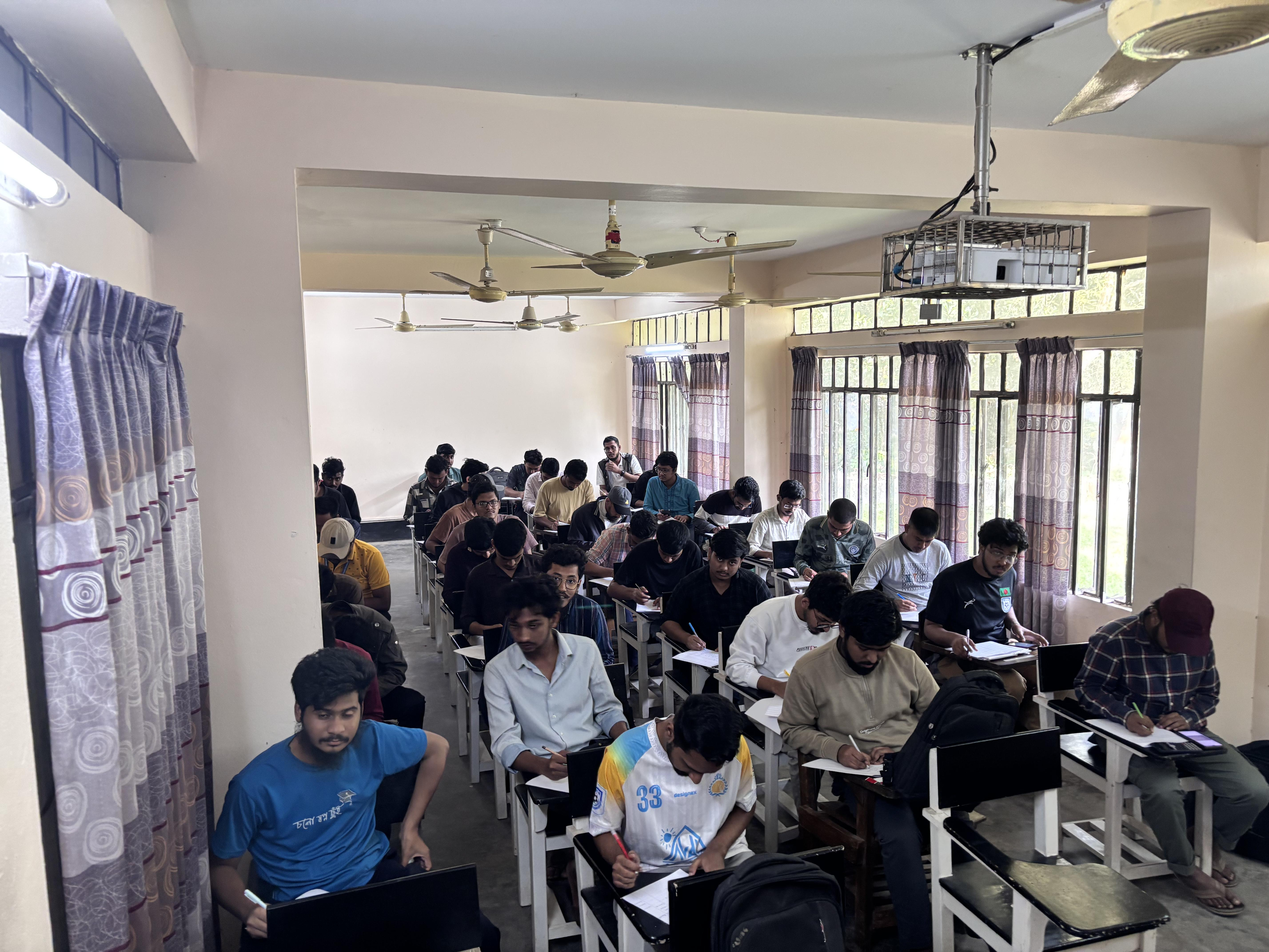copying: (641, 449, 702, 519)
hidden_communication: (472, 578, 618, 796)
no_cheating: (223, 644, 448, 920), (585, 688, 776, 932), (783, 583, 935, 796), (731, 560, 869, 693), (671, 521, 770, 672), (860, 489, 959, 607), (793, 491, 890, 597), (465, 514, 545, 632), (540, 546, 615, 664), (615, 514, 700, 609), (318, 510, 400, 606), (754, 468, 812, 569), (569, 480, 640, 552), (534, 452, 593, 527), (402, 451, 458, 522), (703, 477, 770, 533), (454, 486, 517, 530), (312, 451, 360, 506), (524, 454, 562, 507), (503, 440, 545, 483)
side_talking: (590, 429, 648, 504)
using_phone: (1084, 567, 1251, 804), (930, 512, 1054, 690)
